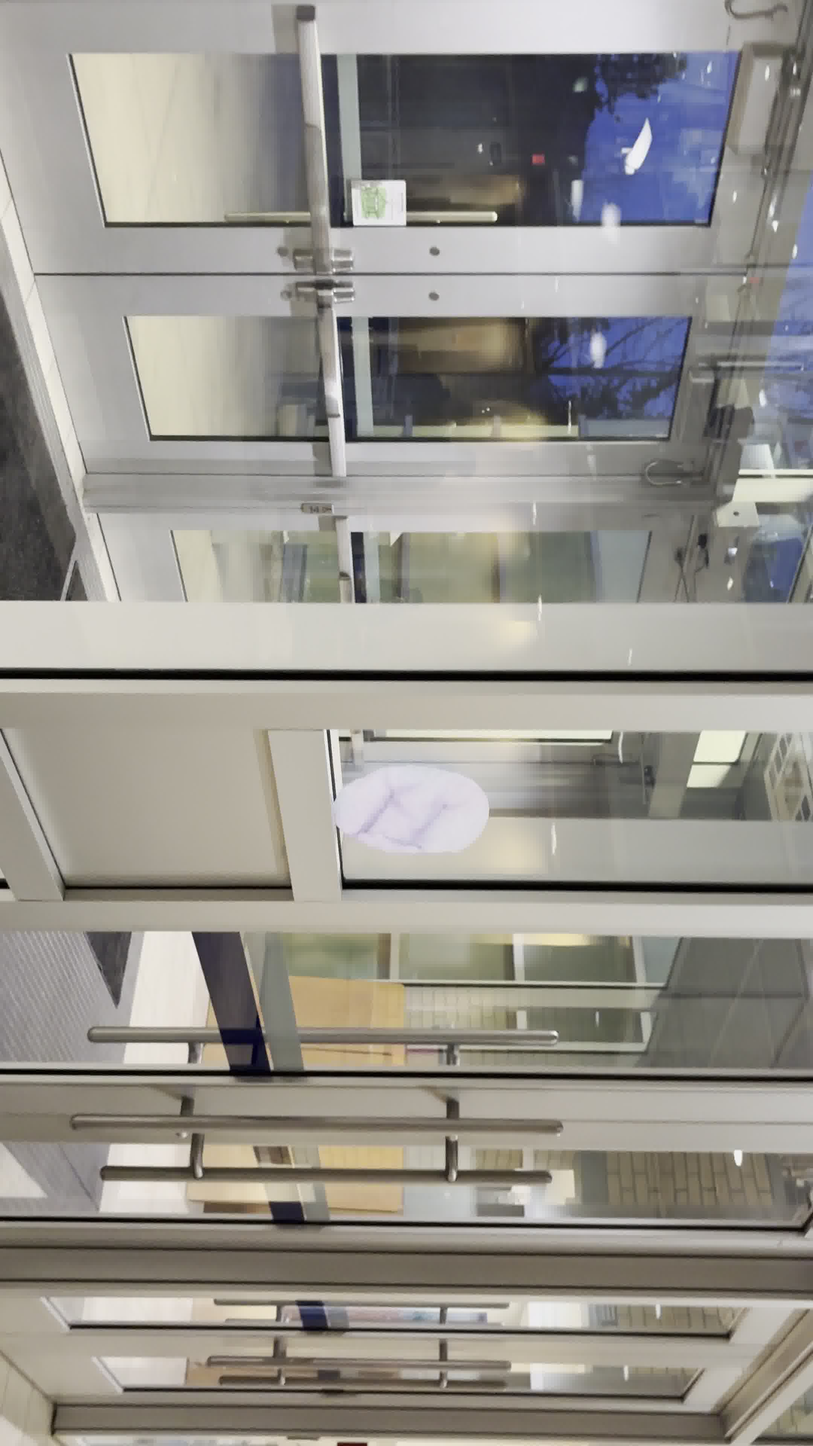Target: (328, 741, 494, 868)
